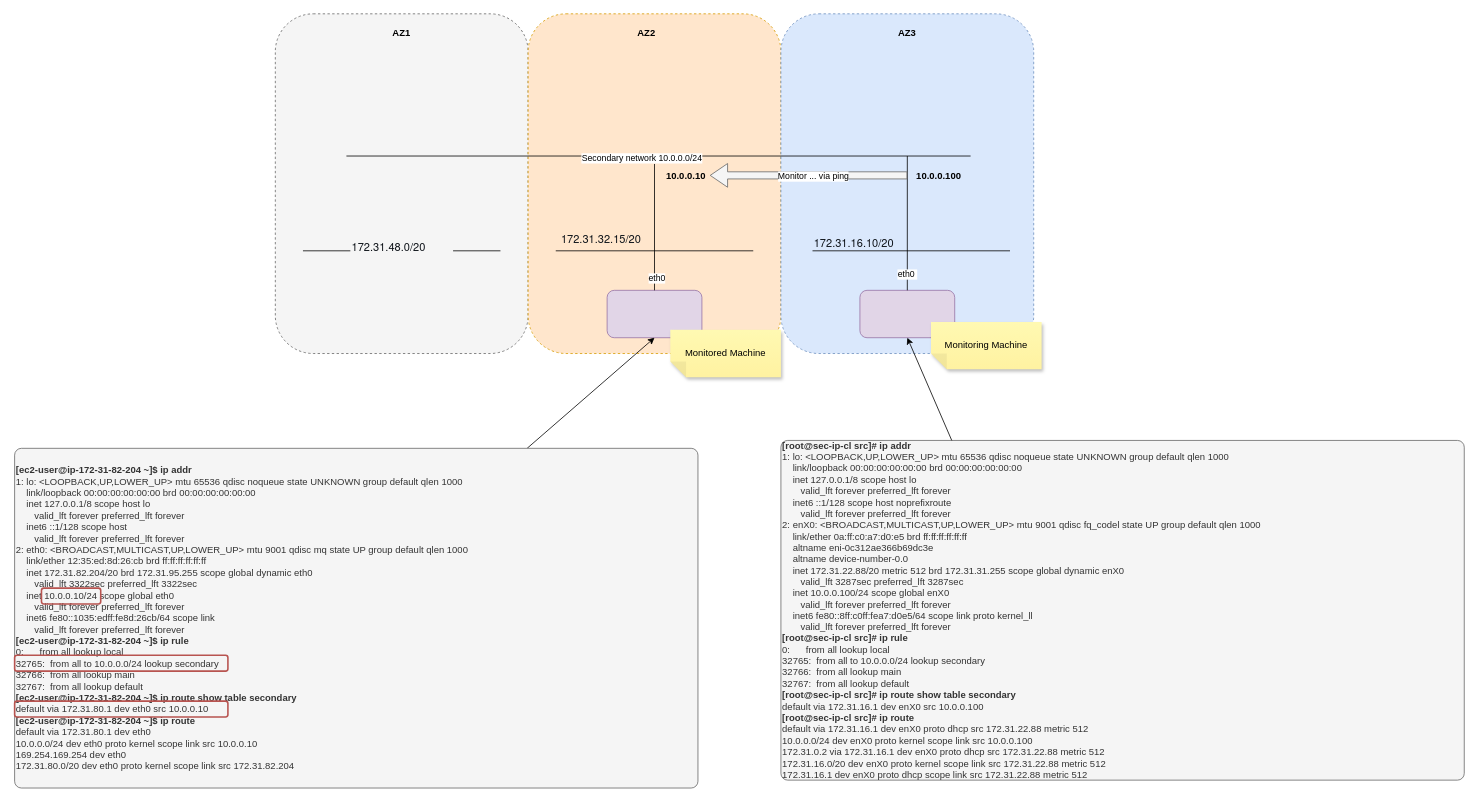
Image size: 1478x802. Some labels were removed from this diagram. Each missing label, with the centre of its shape:
"sec-ip-cl" belongs at point (907, 314).
"sec-ip-vip-85483" belongs at point (654, 314).
